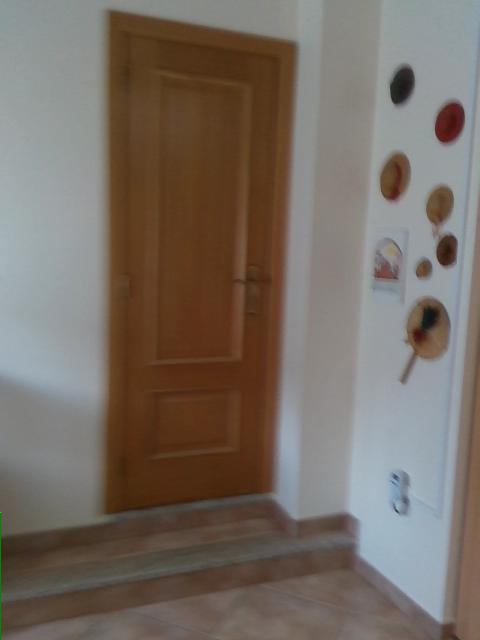door: (104, 10, 299, 517)
